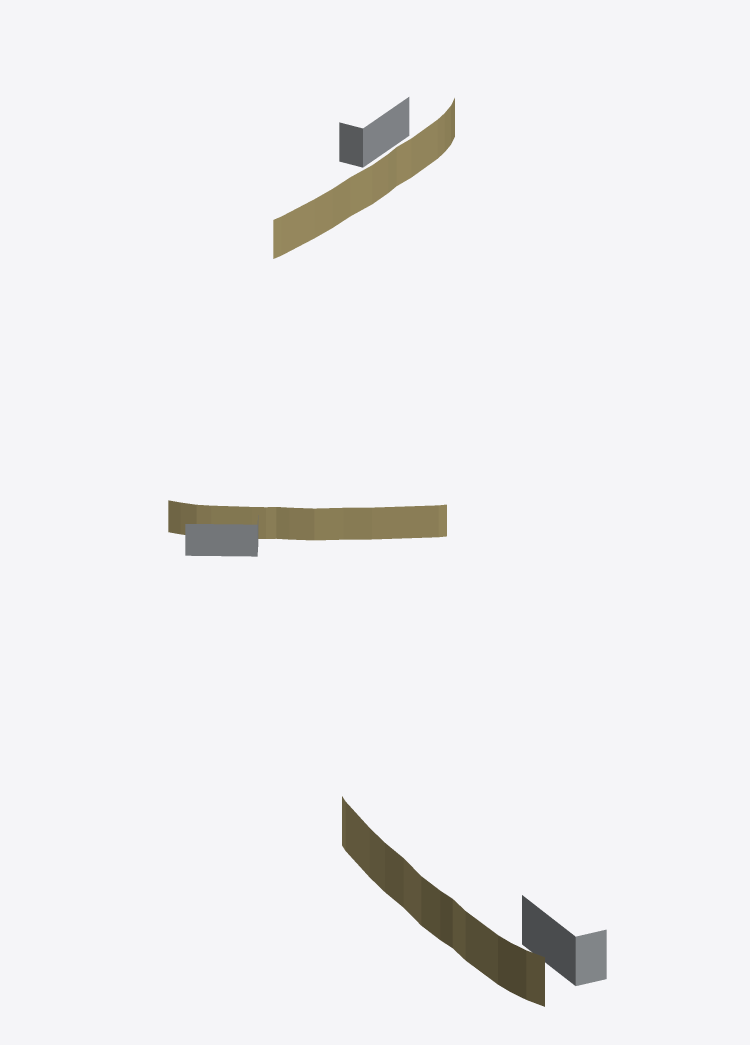
3 views of the same model, one above another, from view 1: azimuth 30°, elevation 25°; view 2: azimuth 150°, elevation 25°; view 3: azimuth 270°, elevation 25° (orthographic). The views are drawn at different scales.
Size of the model in its own units: 220 by 12.47 by 158.
